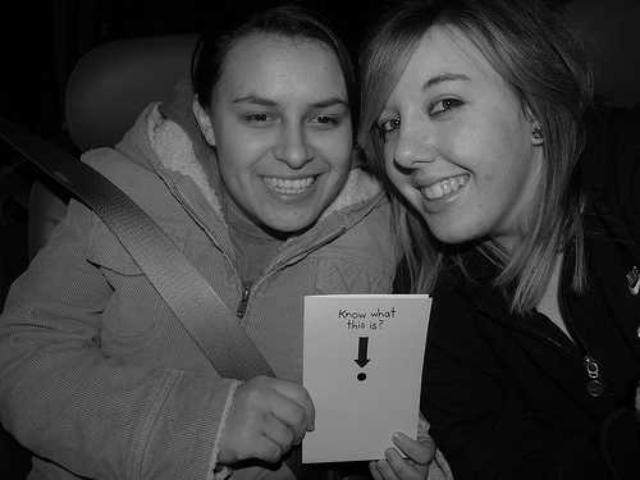SafeDriving: (424, 84, 472, 122), (368, 101, 411, 142), (232, 102, 285, 131), (300, 102, 348, 133)
Seatbelt: (45, 153, 279, 386)
